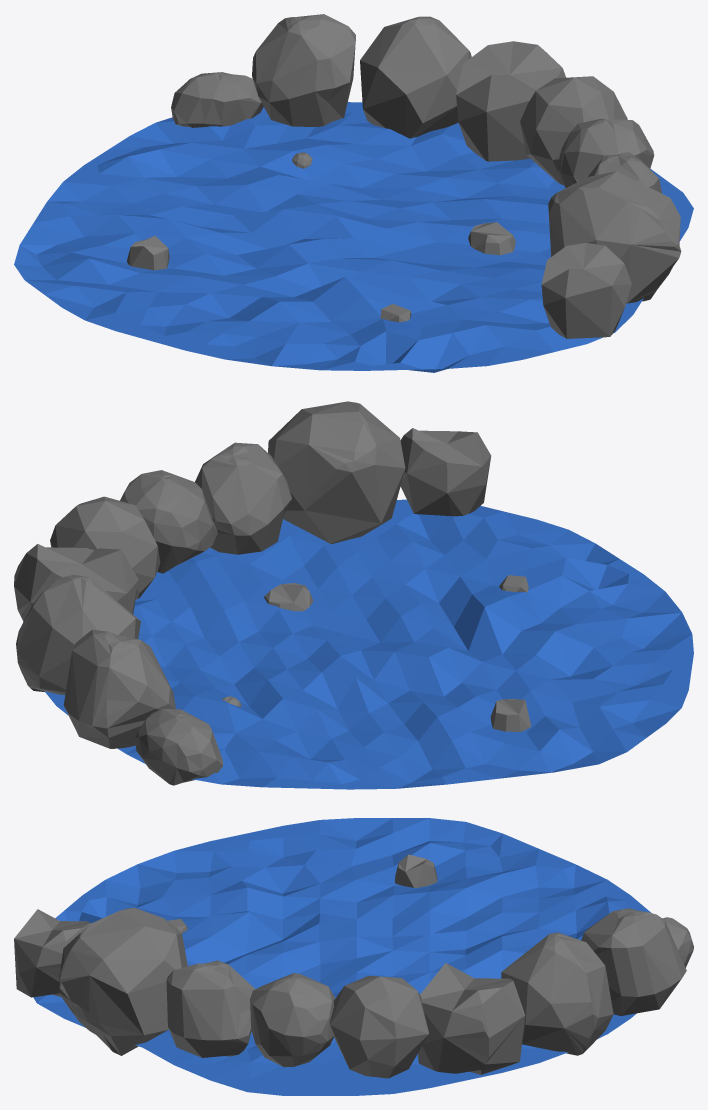
File: Lake Boulders 1.fbx
3 views of the same model, one above another, from view 1: azimuth 30°, elevation 25°; view 2: azimuth 150°, elevation 25°; view 3: azimuth 270°, elevation 25° (orthographic). The views are drawn at different scales.
Parts seen in each view (by area): view 1: Lake_Boulders_1; view 2: Lake_Boulders_1; view 3: Lake_Boulders_1.
Boxes of the visible parts, x1=… form: Lake_Boulders_1: x1=14, y1=14, x2=693, y2=372; Lake_Boulders_1: x1=14, y1=401, x2=693, y2=789; Lake_Boulders_1: x1=14, y1=818, x2=693, y2=1095.
Bounding box in the file's own units: 1394 × 289 × 1442.
1 material, 1 textured.
